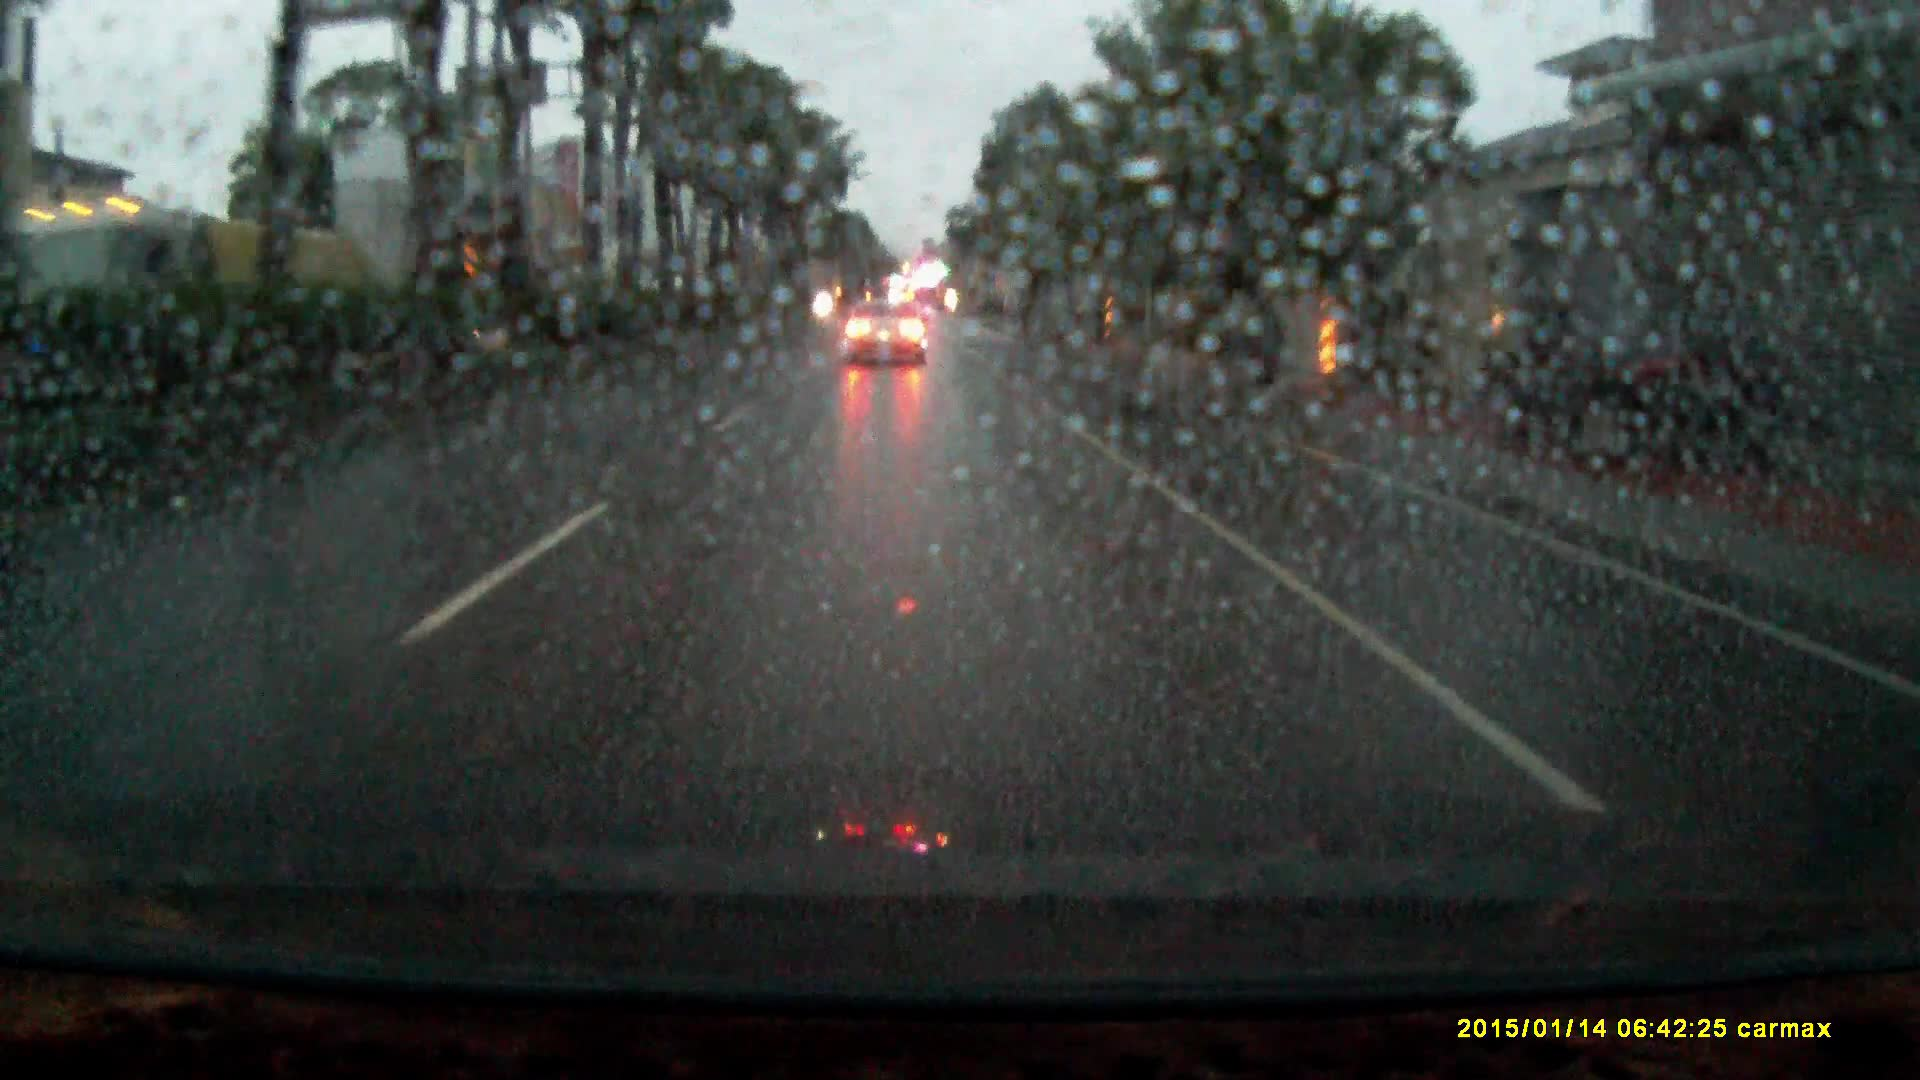vehicle: (34, 208, 377, 376), (1474, 297, 1789, 477), (843, 295, 928, 371)
